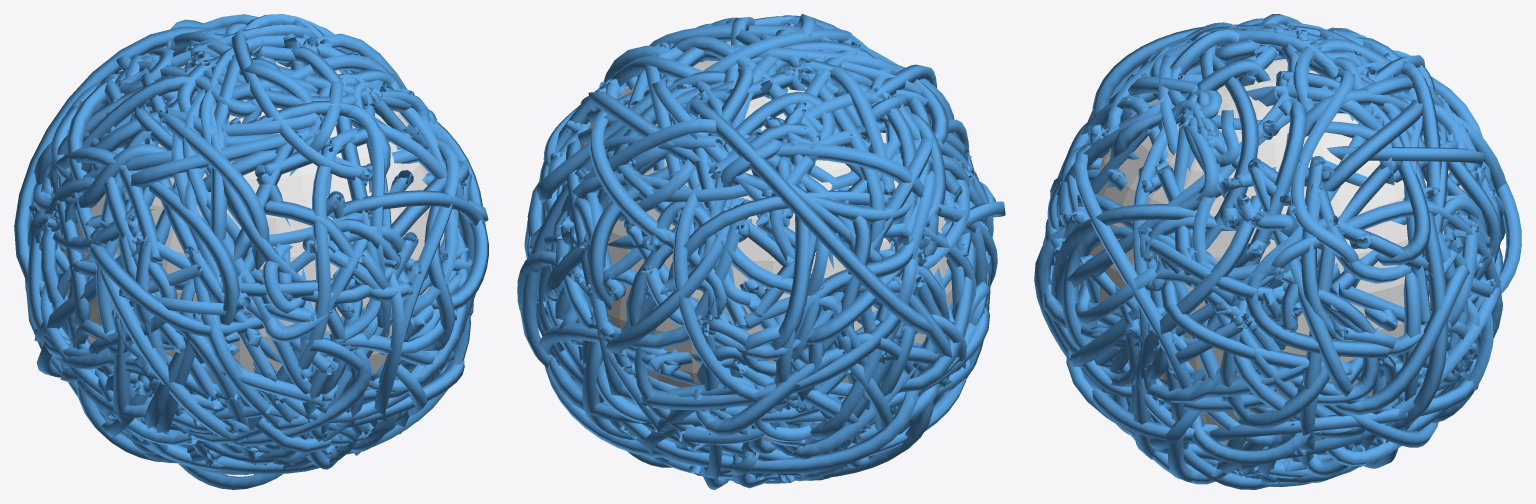
Rendered from Yarn.glb.
The picture shows the model from 3 angles, left to right: view 1: azimuth 30°, elevation 25°; view 2: azimuth 150°, elevation 25°; view 3: azimuth 270°, elevation 25°; orthographic projection. The views are drawn at different scales.
Visible parts, largest first — view 1: BounceSpline, Sphere; view 2: BounceSpline, Sphere; view 3: BounceSpline, Sphere.
Part boxes in pixels (left/top/right/bottom): BounceSpline: left=14, top=14, right=488, bottom=489; Sphere: left=64, top=56, right=443, bottom=402; BounceSpline: left=517, top=14, right=1005, bottom=489; Sphere: left=581, top=41, right=952, bottom=450; BounceSpline: left=1034, top=14, right=1521, bottom=489; Sphere: left=1078, top=59, right=1463, bottom=458.
Size of the model in its own units: 2.26 by 2.23 by 2.32.
